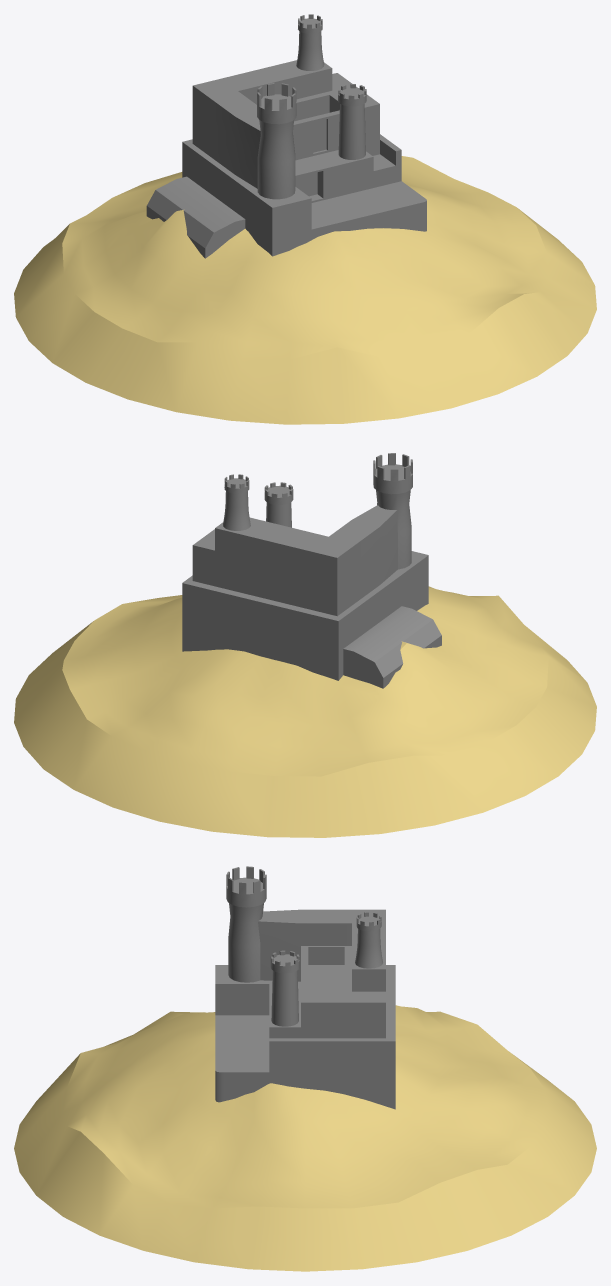
The model's file is CAstleIslandLowPoly.fbx.
3 views of the same model, one above another, from view 1: azimuth 30°, elevation 25°; view 2: azimuth 150°, elevation 25°; view 3: azimuth 270°, elevation 25° (orthographic).
Parts seen in each view (by area): view 1: Cube; view 2: Cube; view 3: Cube.
Part boxes in pixels (x1,y1,x2,y2): Cube: [14, 14, 596, 424]; Cube: [14, 453, 596, 837]; Cube: [14, 866, 596, 1271].
Bounding box in the file's own units: 311 × 311 × 146.
